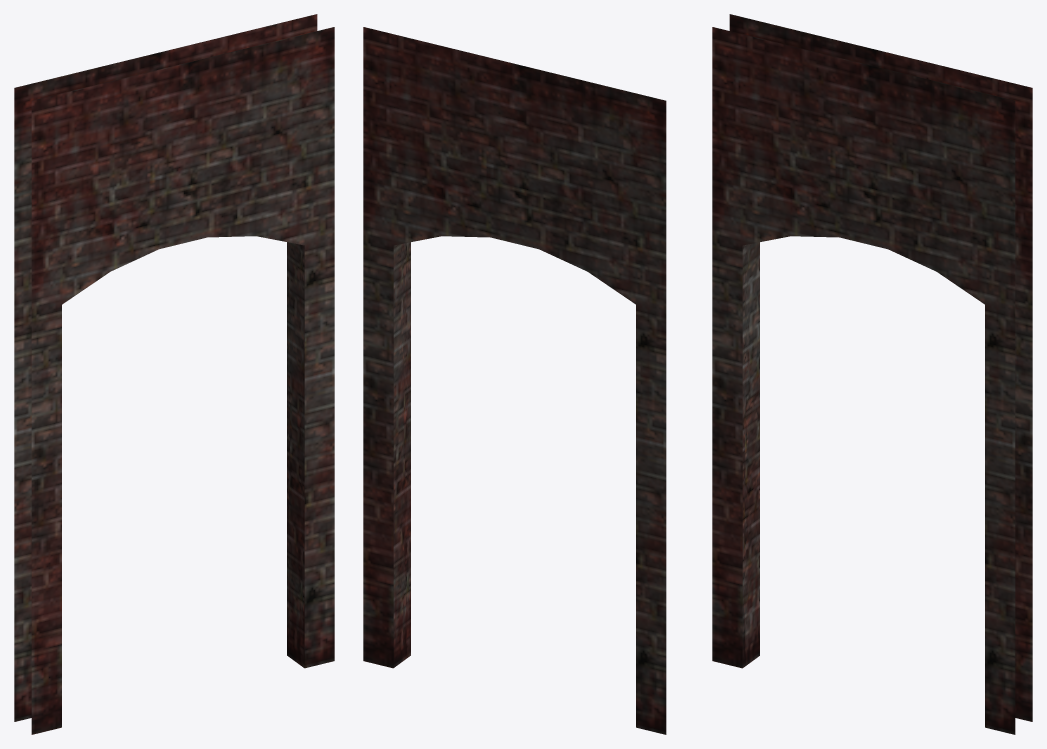
File: wall_brick_archway_3.obj
3 views of the same model, side by side, from view 1: azimuth 30°, elevation 25°; view 2: azimuth 150°, elevation 25°; view 3: azimuth 330°, elevation 25° (orthographic).
Parts seen in each view (by area): view 1: Wall_Archway_Cap; view 2: Wall_Archway_Cap; view 3: Wall_Archway_Cap.
Part boxes in pixels (x1,y1,x2,y2): Wall_Archway_Cap: (14, 14, 334, 734); Wall_Archway_Cap: (363, 27, 666, 734); Wall_Archway_Cap: (712, 14, 1032, 734).
Size of the model in its own units: 1.5 by 3 by 0.15.
1 material, 1 textured.
